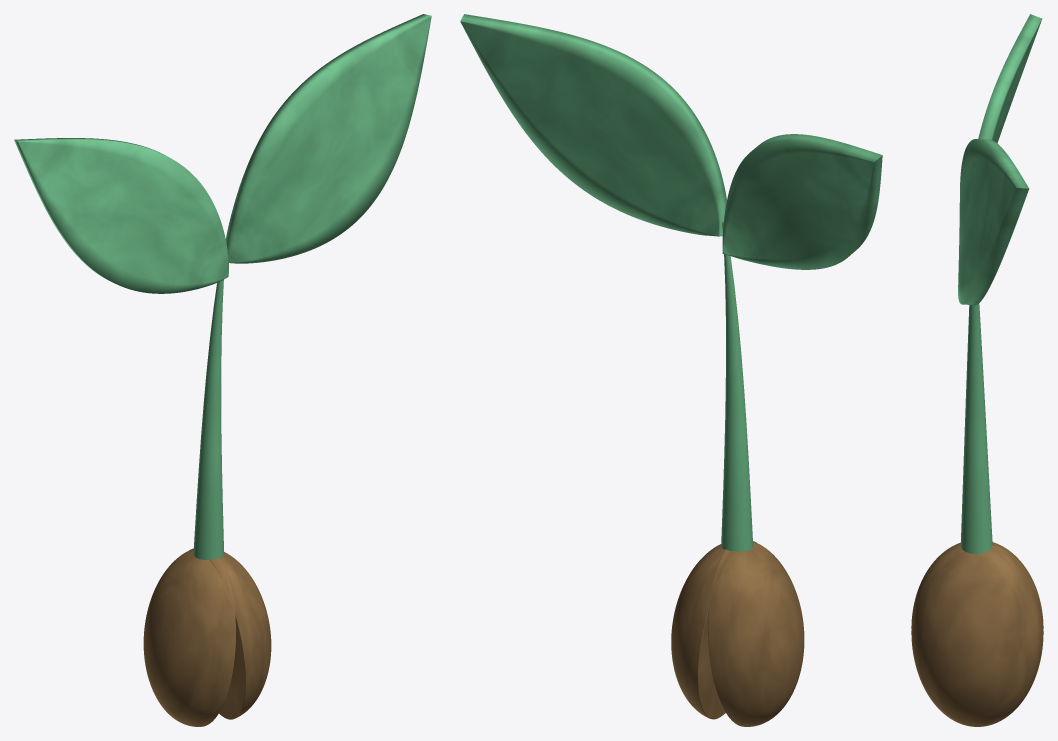
File: seedling.glb
3 renders of one model, left to right at view 1: azimuth 30°, elevation 25°; view 2: azimuth 150°, elevation 25°; view 3: azimuth 270°, elevation 25°, orthographic. The views are drawn at different scales.
Visible parts, largest first — view 1: LeafR, LeafL, SeedL, Stem, SeedR; view 2: LeafR, LeafL, SeedL, Stem, SeedR; view 3: SeedR, LeafR, Stem, LeafL, SeedL.
Part boxes in pixels (<box>): LeafR: <box>225,14,431,263</box>; LeafL: <box>14,138,228,293</box>; SeedL: <box>143,549,235,726</box>; Stem: <box>193,279,224,559</box>; SeedR: <box>189,548,271,719</box>; LeafR: <box>460,14,726,236</box>; LeafL: <box>722,134,882,269</box>; SeedL: <box>708,541,804,726</box>; Stem: <box>721,221,753,551</box>; SeedR: <box>671,541,756,719</box>; SeedR: <box>911,543,1043,726</box>; LeafR: <box>958,139,1029,305</box>; Stem: <box>960,303,992,554</box>; LeafL: <box>978,14,1042,143</box>; SeedL: <box>911,542,1043,628</box>.
Bounding box in the file's own units: 2.23 × 3.3 × 0.6055.
Materials: 5 (5 with a texture image).
